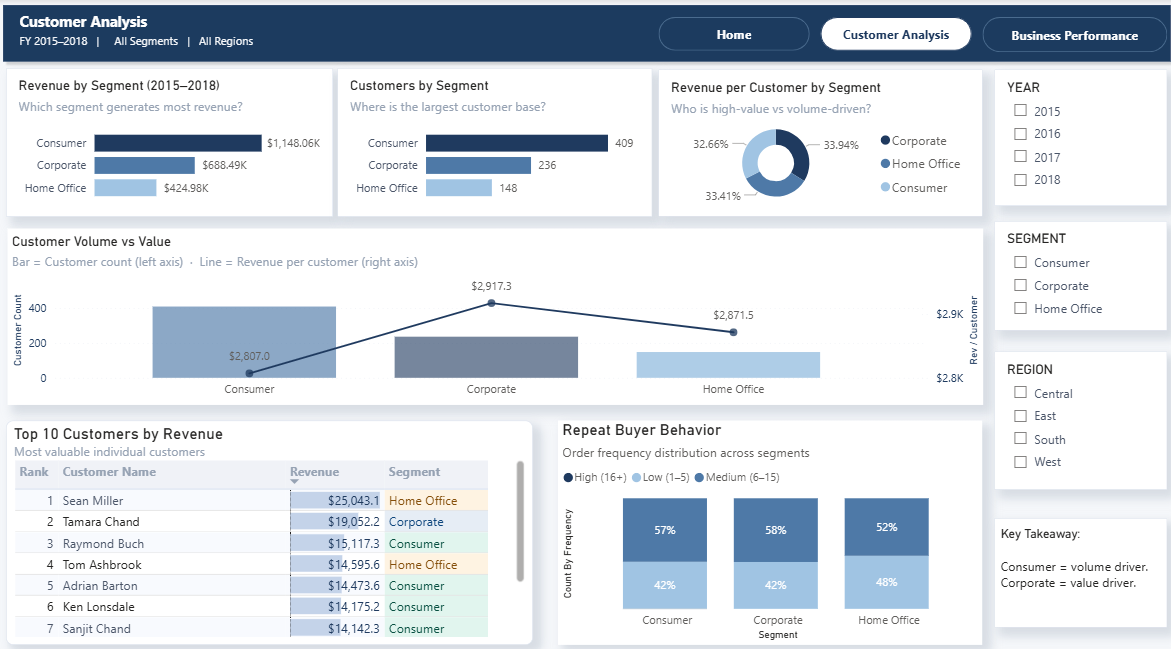

The dashboard page shown, as its layout file describes it:
{"tool":"powerbi","page":{"name":"Customer Analysis","canvas":[1280,720],"ordinal":1},"visuals":[{"type":"shape","box":[0,0,1280.5,74.5],"z":0},{"type":"textbox","box":[20,8,299.8,66.3],"z":1000},{"type":"actionButton","box":[892.8,19.9,164,36.4],"z":2000},{"type":"actionButton","box":[717.3,19.9,164,36.4],"z":3000},{"type":"actionButton","box":[1068.4,19.9,200.4,38.1],"z":4000},{"type":"clusteredBarChart","title":"Revenue by Segment (2015–2018)","fields":{"Category":["Customer.Segment"],"Y":["Orders.Total Revenue"]},"box":[9.8,74.8,354.6,161],"z":5000},{"type":"clusteredBarChart","title":"Customers by Segment","fields":{"Category":["Customer.Segment"],"Y":["Orders.Total Customers"]},"box":[369.2,74.8,341.6,161],"z":6000},{"type":"donutChart","title":"Revenue per Customer by Segment","fields":{"Category":["Customer.Segment"],"Y":["Orders.Revenue per Customer"]},"box":[717.3,76.4,351.3,159.4],"z":7000},{"type":"lineClusteredColumnComboChart","title":"Customer Volume vs Value","fields":{"Category":["Customer.Segment"],"Y":["Orders.Total Customers"],"Y2":["Orders.Revenue per Customer"]},"box":[11.7,248.2,1057.9,191.6],"z":8000},{"type":"tableEx","title":"Top 10 Customers by Revenue","fields":{"Values":["Orders.Customer Rank","Customer.Customer Name","Orders.Total Revenue","Customer.Segment"]},"box":[10,456.5,571.4,243.2],"z":9000},{"type":"columnChart","title":"Repeat Buyer Behavior","fields":{"Category":["Customer.Segment"],"Series":["Frequency Table.Bucket"],"Y":["Orders.Customer Count %"]},"box":[608.1,456.5,459.8,243.2],"z":10000},{"type":"slicer","title":"YEAR","fields":{"Values":["Date.Year"]},"box":[1081.9,76.4,187.1,148],"z":11000},{"type":"slicer","title":"SEGMENT","fields":{"Values":["Customer.Segment"]},"box":[1081.8,240.7,187.1,118.7],"z":12000},{"type":"slicer","title":"REGION","fields":{"Values":["Location.Region"]},"box":[1082,382.4,187.1,149.7],"z":13000},{"type":"textbox","box":[1081.7,562.8,187.1,118.7],"z":14000}]}

Visuals, with their boxes in screenshot pixels (x1, y1, x2, y2), scaled from the page's 1280x720 canvas onto the 1171x649 screenshot:
shape: Rect(0, 0, 1170, 67)
textbox: Rect(18, 7, 293, 67)
actionButton: Rect(817, 18, 967, 51)
actionButton: Rect(656, 18, 806, 51)
actionButton: Rect(977, 18, 1161, 52)
"Revenue by Segment (2015–2018)" clusteredBarChart: Rect(9, 67, 333, 213)
"Customers by Segment" clusteredBarChart: Rect(338, 67, 650, 213)
"Revenue per Customer by Segment" donutChart: Rect(656, 69, 978, 213)
"Customer Volume vs Value" lineClusteredColumnComboChart: Rect(11, 224, 979, 396)
"Top 10 Customers by Revenue" tableEx: Rect(9, 411, 532, 631)
"Repeat Buyer Behavior" columnChart: Rect(556, 411, 977, 631)
"YEAR" slicer: Rect(990, 69, 1161, 202)
"SEGMENT" slicer: Rect(990, 217, 1161, 324)
"REGION" slicer: Rect(990, 345, 1161, 480)
textbox: Rect(990, 507, 1161, 614)
